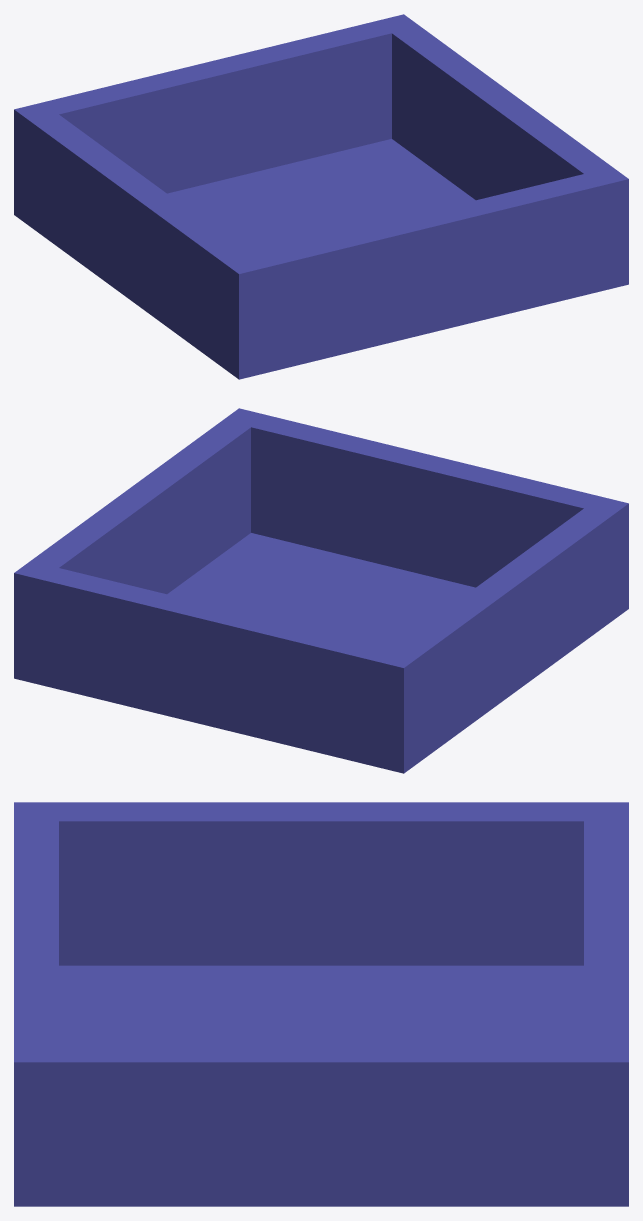
The model's file is nivel_1-Paredes.dae.
3 views of the same model, one above another, from view 1: azimuth 30°, elevation 25°; view 2: azimuth 150°, elevation 25°; view 3: azimuth 270°, elevation 25° (orthographic). The views are drawn at different scales.
Visible parts, largest first — view 1: SueloBlan-col; view 2: SueloBlan-col; view 3: SueloBlan-col.
Boxes of the visible parts, x1,y1,x2,y2 form: SueloBlan-col: (14,14,628,379); SueloBlan-col: (14,408,628,773); SueloBlan-col: (14,802,628,1206).
Bounding box in the file's own units: 51.91 × 51.91 × 13.43.
